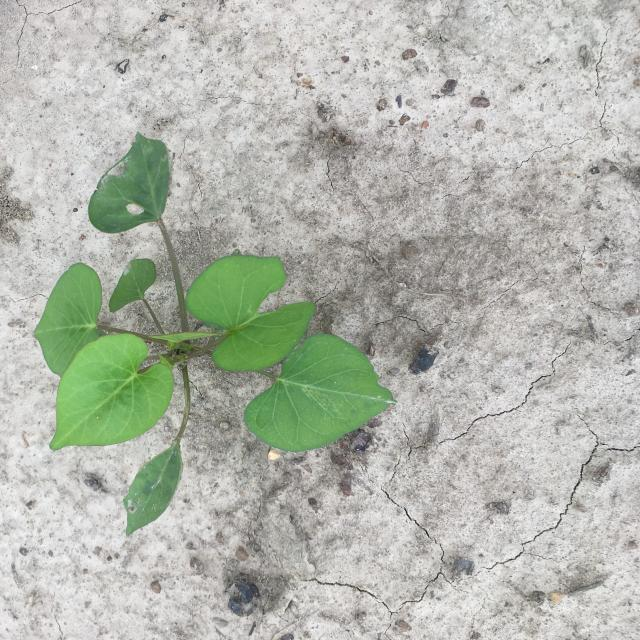MorningGlory: (34, 132, 398, 536)
